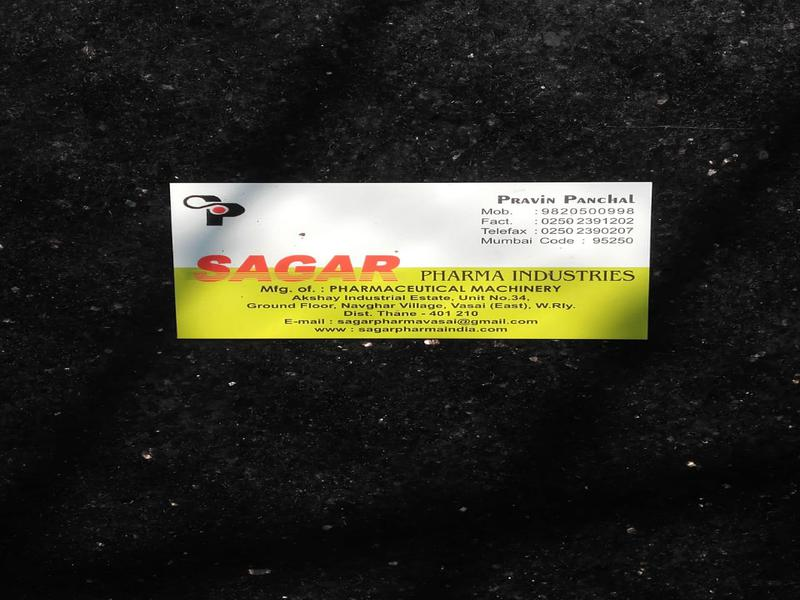card: (167, 182, 652, 340)
